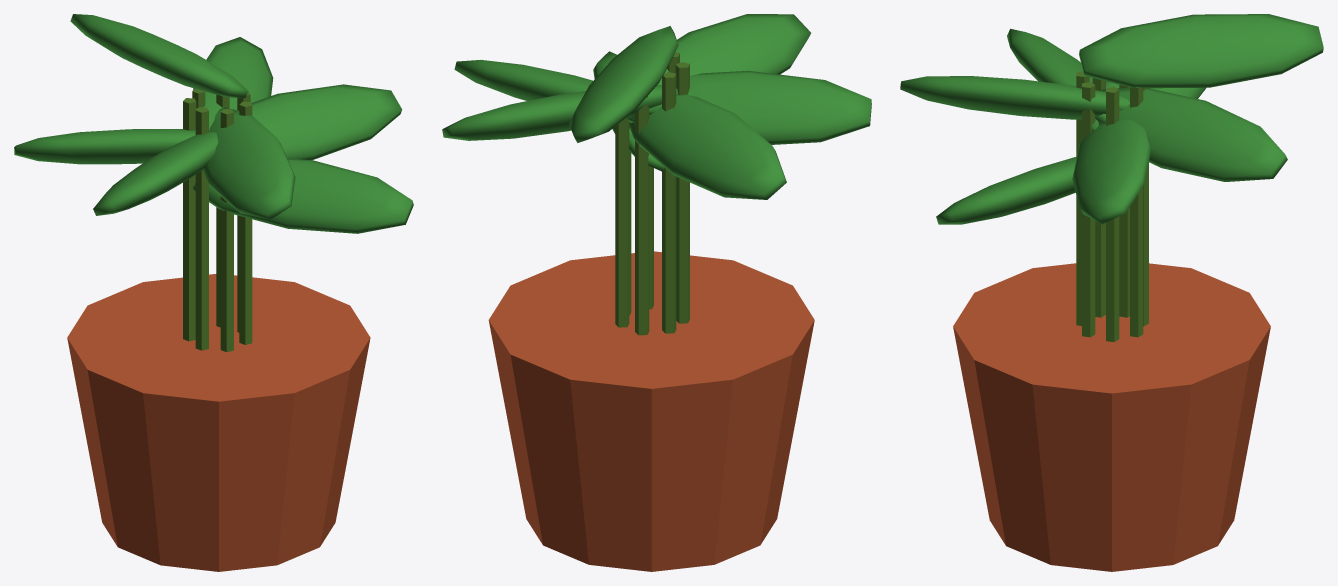
The model's file is plant_pot.glb.
3 views of the same model, side by side, from view 1: azimuth 30°, elevation 25°; view 2: azimuth 150°, elevation 25°; view 3: azimuth 270°, elevation 25° (orthographic). The views are drawn at different scales.
Parts seen in each view (by area): view 1: plant_pot; view 2: plant_pot; view 3: plant_pot.
Boxes of the visible parts, x1=… form: plant_pot: x1=14, y1=14, x2=413, y2=571; plant_pot: x1=442, y1=14, x2=871, y2=571; plant_pot: x1=900, y1=14, x2=1323, y2=571.
Size of the model in its own units: 0.6755 by 0.8745 by 0.6929.
